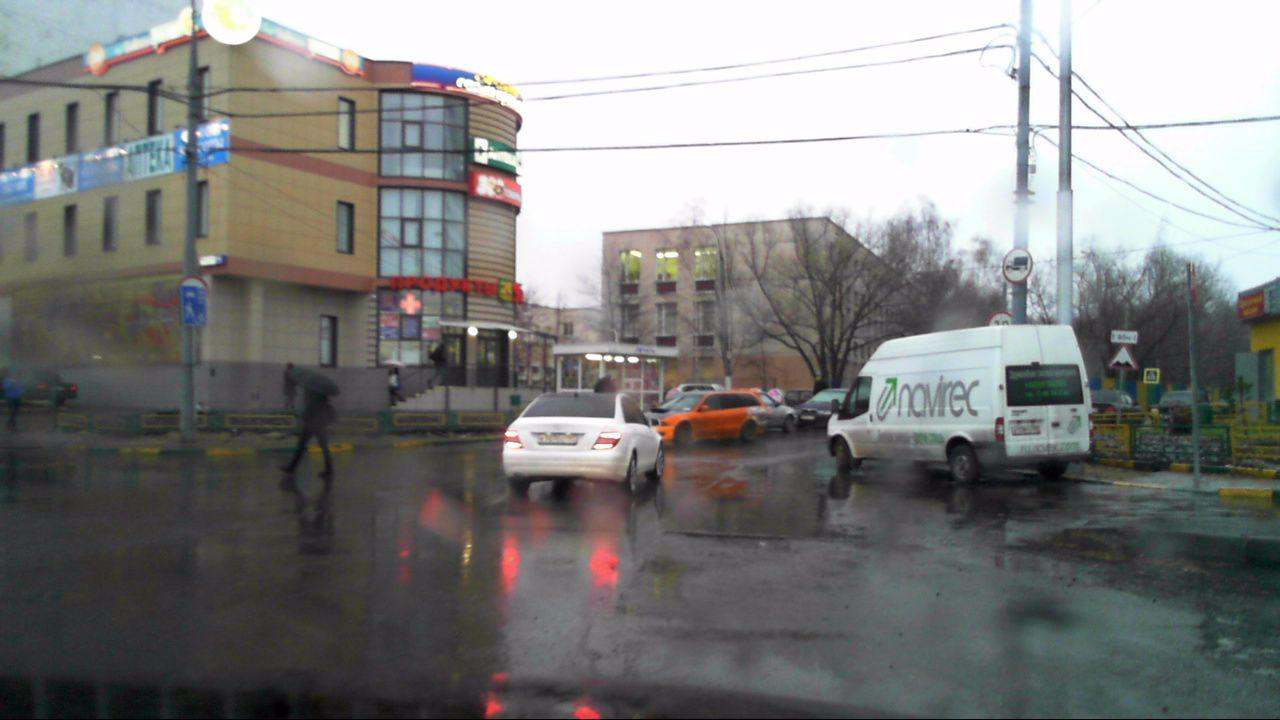1_16: (1109, 344, 1138, 372)
3_24: (988, 312, 1010, 326)
3_4: (1002, 246, 1033, 282)
5_19_1: (1145, 369, 1158, 382)
5_21: (183, 284, 209, 326)
8_2_1: (1109, 328, 1140, 344)
